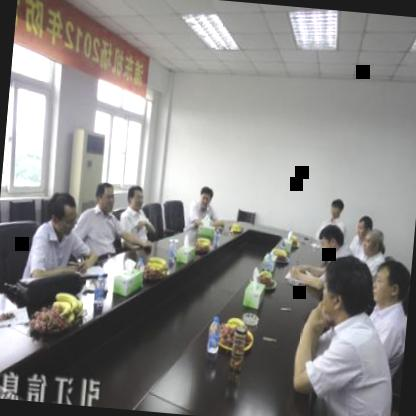head: (318, 253, 378, 330), (368, 252, 410, 313), (45, 190, 80, 236), (314, 223, 346, 263), (90, 180, 119, 218), (123, 182, 148, 214), (361, 228, 386, 257), (350, 210, 374, 240), (198, 181, 216, 214), (326, 196, 346, 221)
